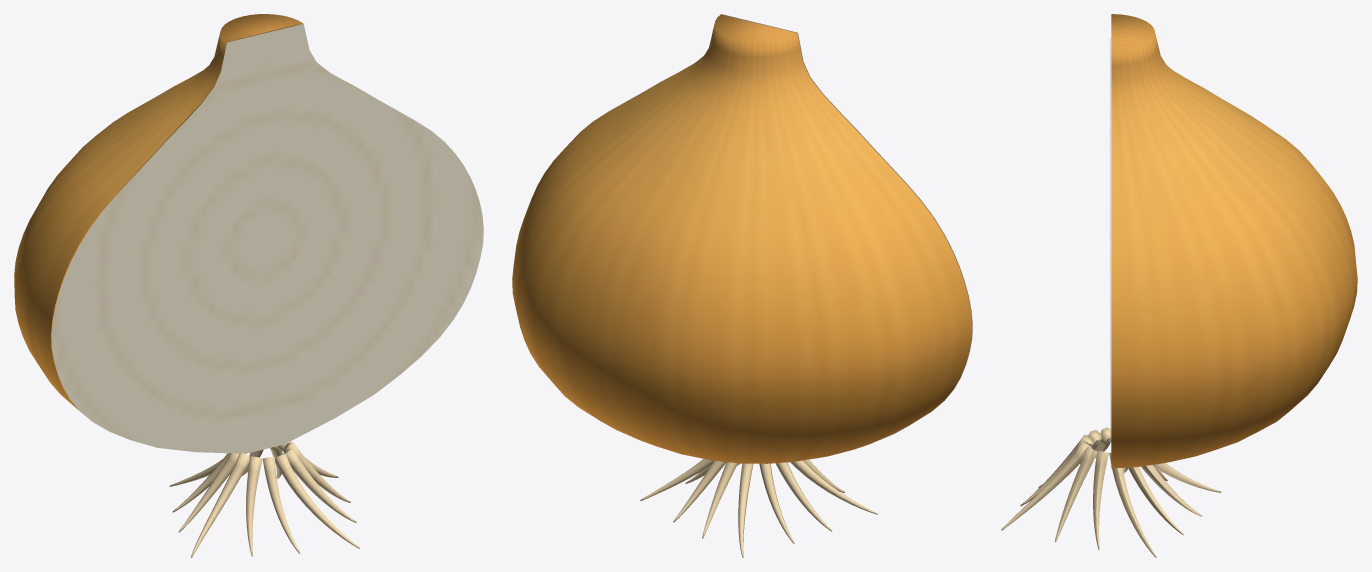
File: NP_Onion_CutHalf.fbx
3 views of the same model, side by side, from view 1: azimuth 30°, elevation 25°; view 2: azimuth 150°, elevation 25°; view 3: azimuth 270°, elevation 25° (orthographic).
Visible parts, largest first — view 1: NP_Onion_CutHalf.001; view 2: NP_Onion_CutHalf.001; view 3: NP_Onion_CutHalf.001.
Part boxes in pixels (box(x1,y1,x2,y2)): NP_Onion_CutHalf.001: box(14, 14, 483, 557); NP_Onion_CutHalf.001: box(512, 14, 972, 557); NP_Onion_CutHalf.001: box(1001, 14, 1357, 557).
Size of the model in its own units: 43.49 by 46.65 by 31.45.
